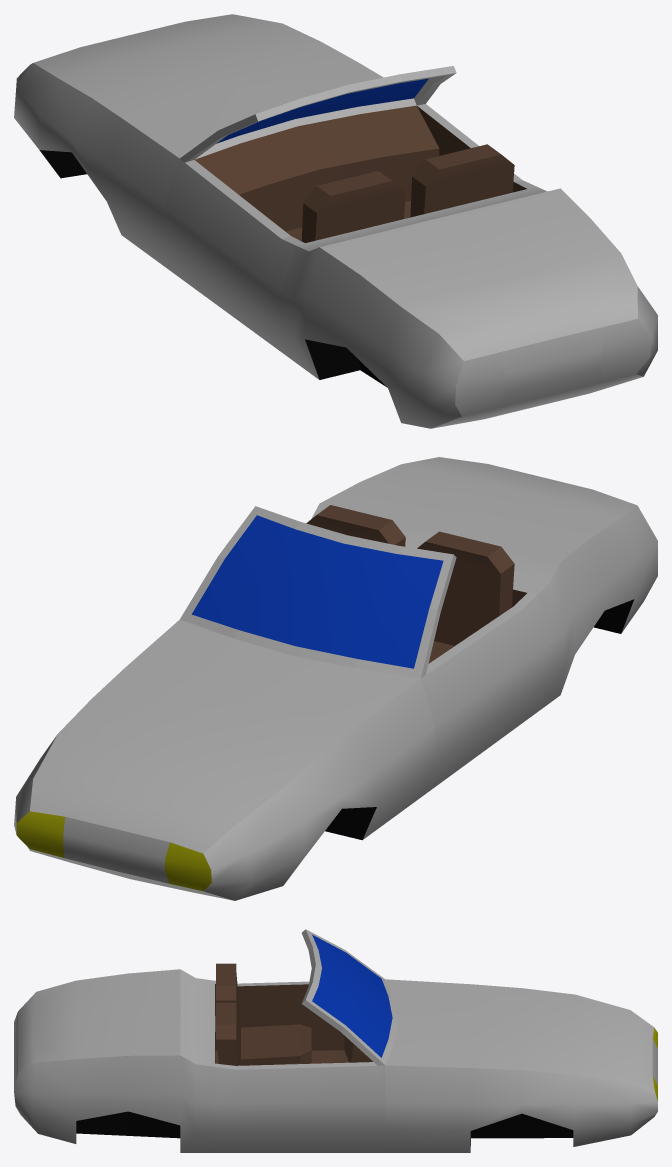
The model's file is SM_Car_Body_0_2.fbx.
3 renders of one model, top to bottom at view 1: azimuth 30°, elevation 25°; view 2: azimuth 150°, elevation 25°; view 3: azimuth 270°, elevation 25°, orthographic. The views are drawn at different scales.
Parts seen in each view (by area): view 1: SM_Car_Body_0_2; view 2: SM_Car_Body_0_2; view 3: SM_Car_Body_0_2.
Boxes of the visible parts, x1,y1,x2,y2 form: SM_Car_Body_0_2: [14, 14, 657, 428]; SM_Car_Body_0_2: [14, 457, 657, 900]; SM_Car_Body_0_2: [14, 929, 657, 1152].
Size of the model in its own units: 112 by 78.54 by 316.
